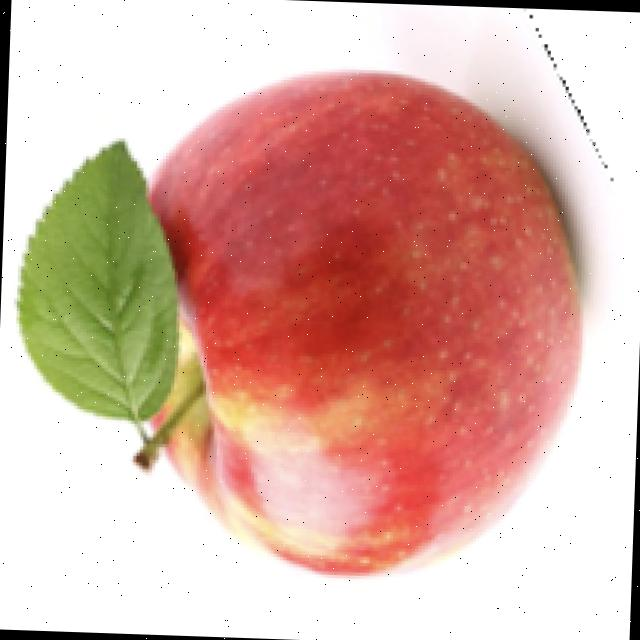apple: (10, 37, 613, 584)
